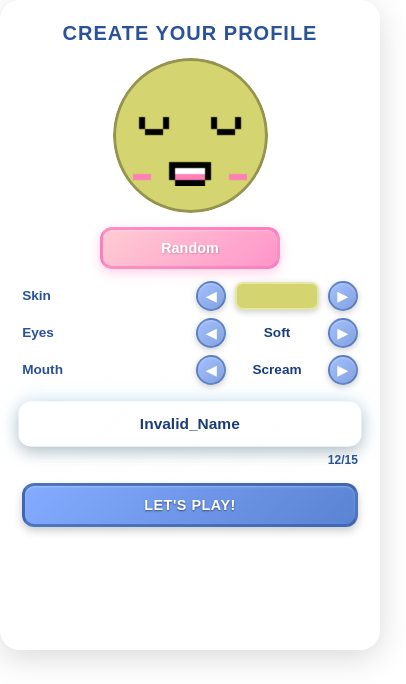
Test: ProfileMenu Component › Profile Submission › should reject an invalid initial username before socket submission
Click the button "Let's Play!". click: click(190, 505)
box: [22, 483, 358, 527]
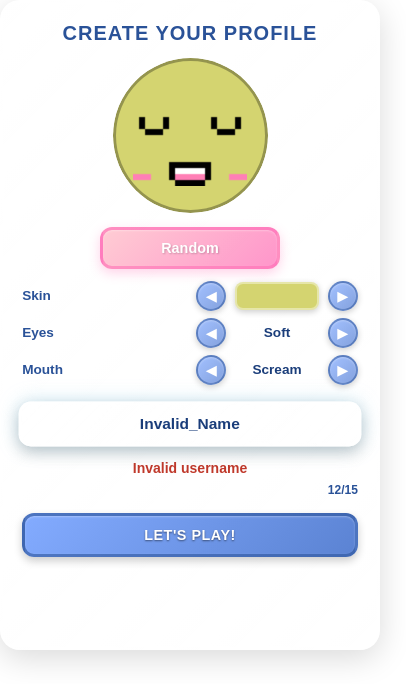
Result: the text "Invalid username" is shown at [133, 460, 247, 476]
